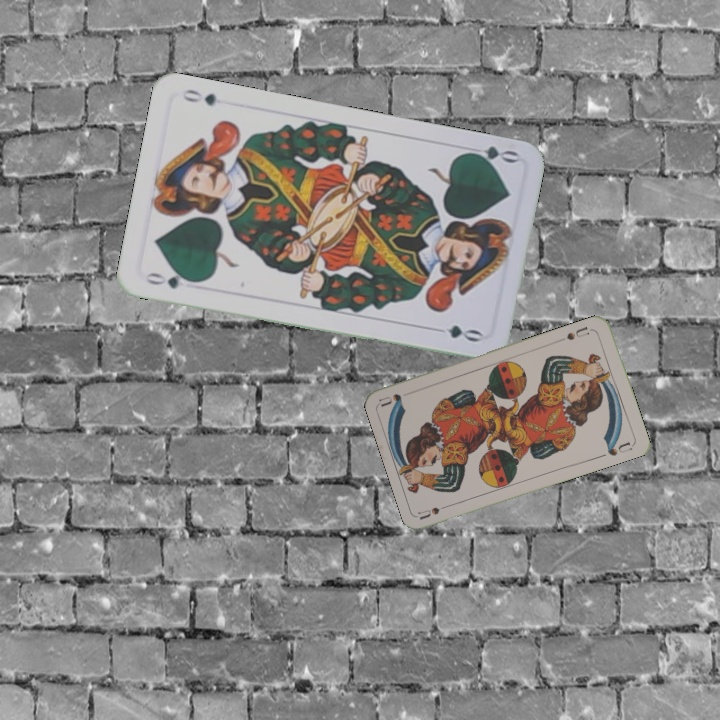GO: (460, 142, 521, 169), (142, 268, 200, 292)
SU: (415, 500, 455, 522), (562, 322, 596, 343)
